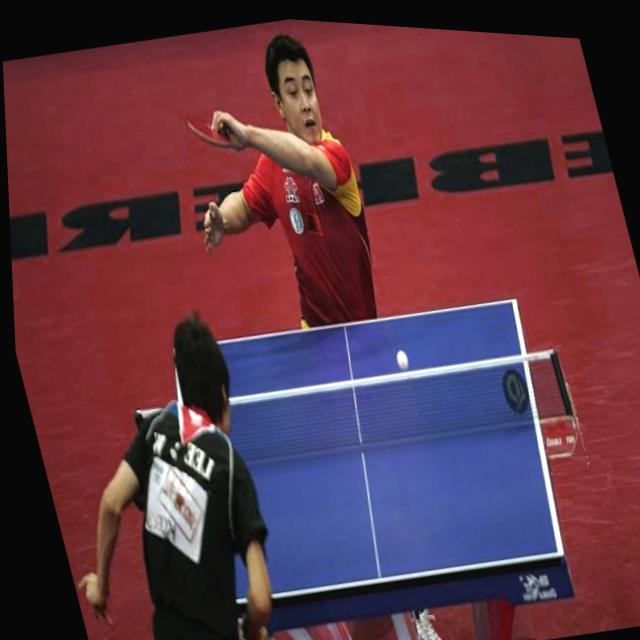TT Net: (128, 343, 580, 485)
TT Racket: (181, 110, 234, 154)
TT Table: (174, 301, 561, 606)
